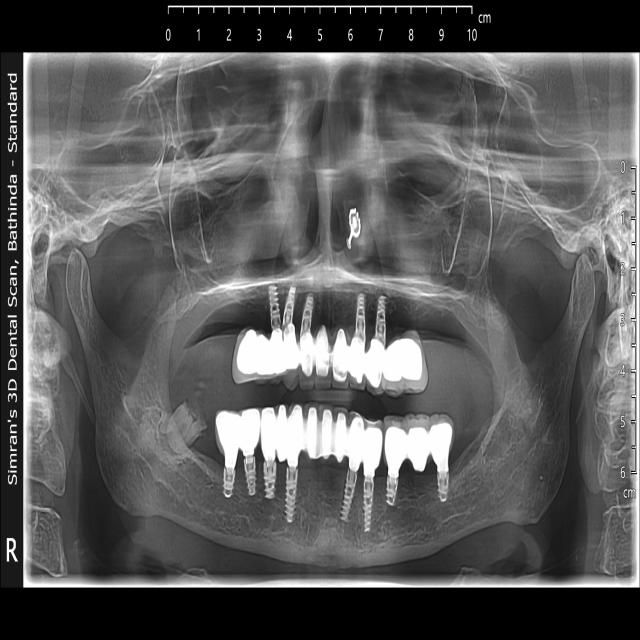Crown: (215, 406, 452, 478), (231, 328, 428, 389)
Implant: (339, 464, 358, 524), (285, 467, 298, 526), (267, 284, 282, 329), (280, 285, 296, 327), (364, 477, 375, 533), (355, 293, 367, 344), (300, 295, 313, 337), (375, 298, 386, 345), (263, 462, 276, 500), (244, 457, 255, 496), (224, 468, 236, 499), (387, 475, 398, 508), (437, 471, 449, 501)
Missing teeth: (302, 472, 341, 521), (231, 293, 266, 329), (395, 306, 426, 337), (407, 471, 432, 509), (321, 300, 349, 324)
Root Piece: (166, 399, 206, 458)
